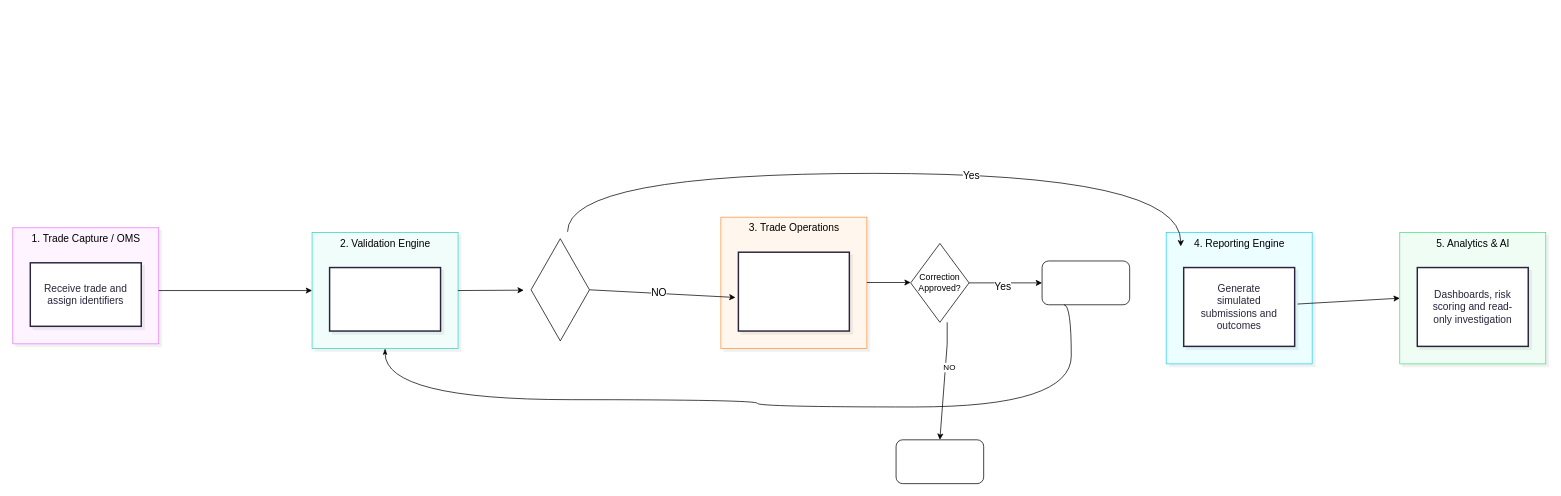
The diagram is 1561 pixels wide and 496 high, and some of its shapes have lost their labels. The shapes that lost their labels are listed below. From the top down, each one's centre as x and y in pixels, then its label:
point 386,300: Validate fields, rules and confirmations
point 559,289: Validation Passed?
point 795,292: Create Exception, Hold Reporting & Human Review
point 1085,282: Create New Trade Version
point 939,461: Record Rejection & Keep onHold
